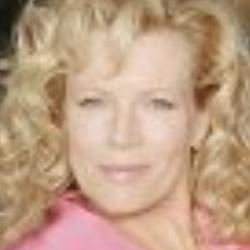face: (11, 5, 248, 227)
